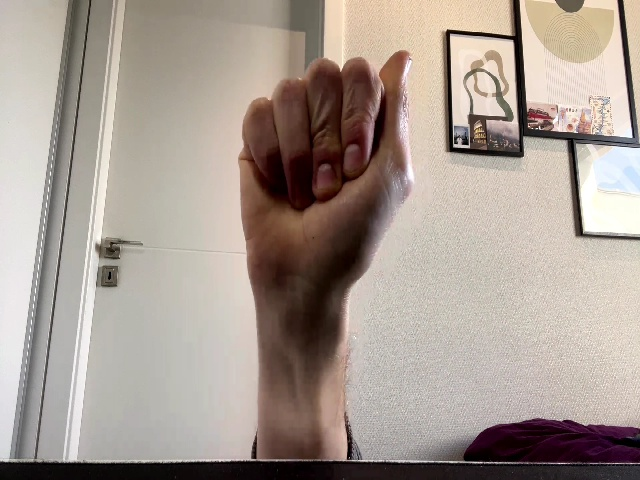A: (239, 50, 415, 299)
